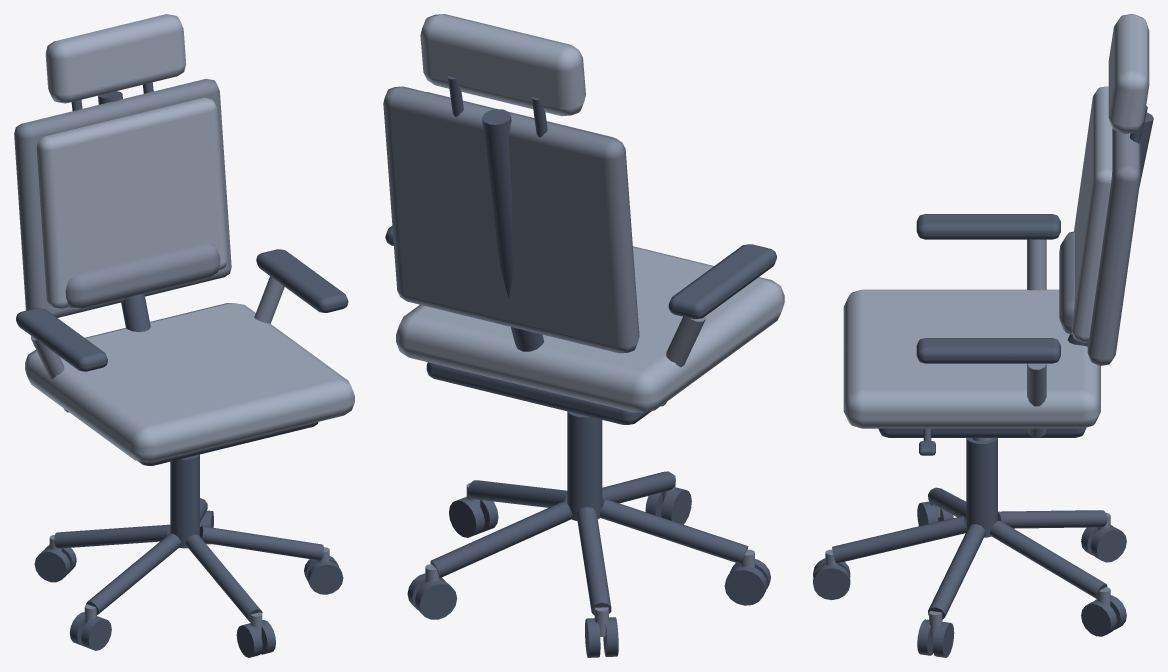
Rendered from office-chair-lite.glb.
3 views of the same model, side by side, from view 1: azimuth 30°, elevation 25°; view 2: azimuth 150°, elevation 25°; view 3: azimuth 270°, elevation 25° (orthographic). The views are drawn at different scales.
Visible parts, largest first — view 1: office-chair; view 2: office-chair; view 3: office-chair.
Part boxes in pixels (x1,y1,x2,y2): office-chair: (14,14,354,657); office-chair: (383,14,784,657); office-chair: (813,14,1153,657).
Bounding box in the file's own units: 0.64 × 1.18 × 0.66.
